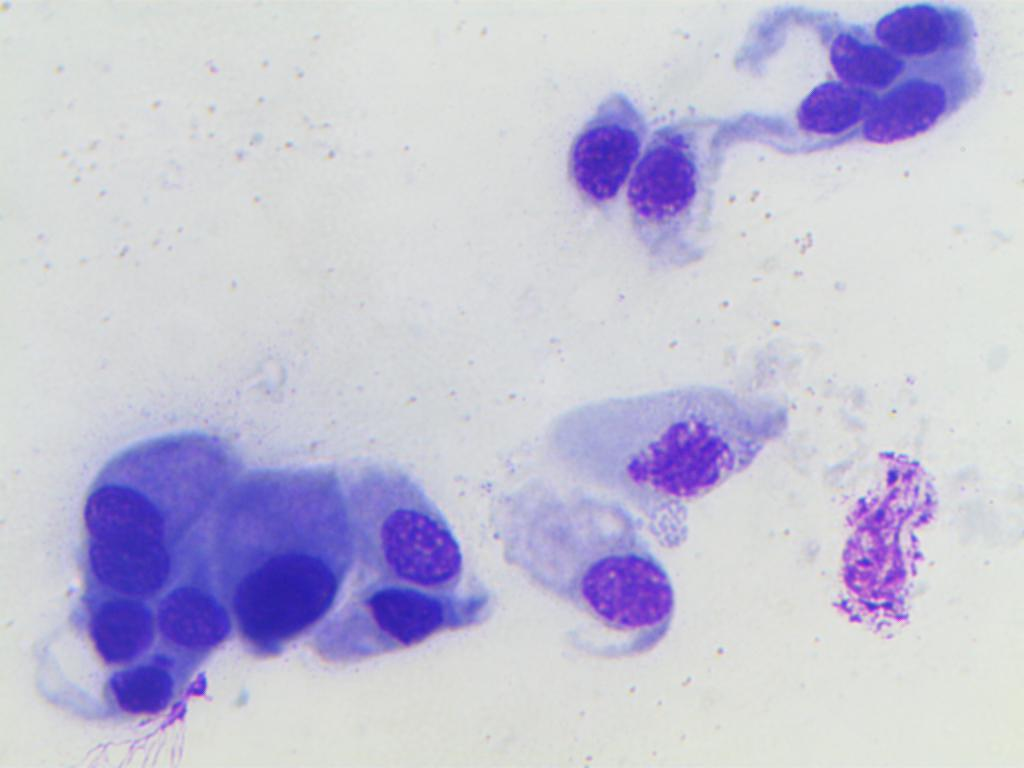artifact: (842, 430, 936, 641), (623, 420, 732, 497)
epithelial: (222, 453, 349, 640), (563, 540, 681, 644), (533, 82, 631, 203), (340, 580, 482, 651), (626, 121, 718, 226), (363, 507, 466, 590), (863, 79, 951, 147), (824, 29, 908, 91), (85, 482, 166, 545), (156, 588, 233, 652), (78, 596, 155, 660), (100, 659, 177, 723), (870, 6, 969, 53), (88, 543, 172, 592), (797, 79, 870, 130)
